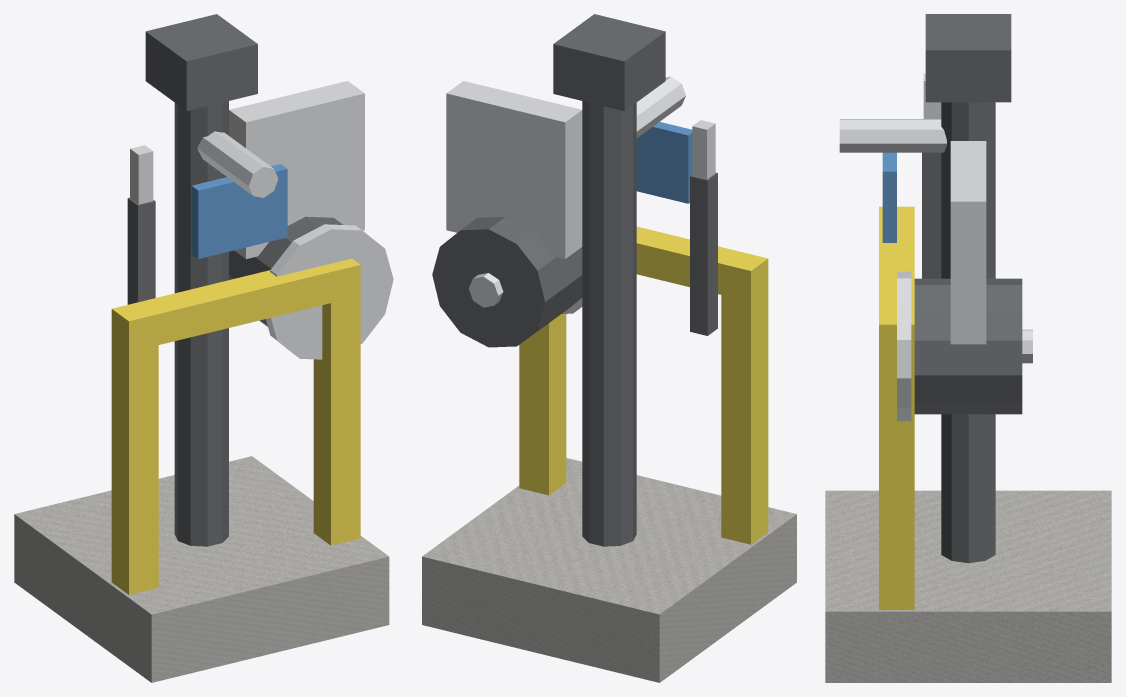
File: recycling-and-waste-transfer-yard-recycling-and-waste--8a8beaeb__34921.glb
The picture shows the model from 3 angles, left to right: view 1: azimuth 30°, elevation 25°; view 2: azimuth 150°, elevation 25°; view 3: azimuth 270°, elevation 25°; orthographic projection. The views are drawn at different scales.
Visible parts, largest first — view 1: recycling-and-waste-transfer-yard-wash-down-point; view 2: recycling-and-waste-transfer-yard-wash-down-point; view 3: recycling-and-waste-transfer-yard-wash-down-point.
Boxes of the visible parts, <box> form: recycling-and-waste-transfer-yard-wash-down-point: <box>14,14,393,682</box>; recycling-and-waste-transfer-yard-wash-down-point: <box>422,14,796,682</box>; recycling-and-waste-transfer-yard-wash-down-point: <box>825,14,1111,682</box>.
Bounding box in the file's own units: 0.93 × 1.82 × 0.8.
Materials: 5 (1 with a texture image).
